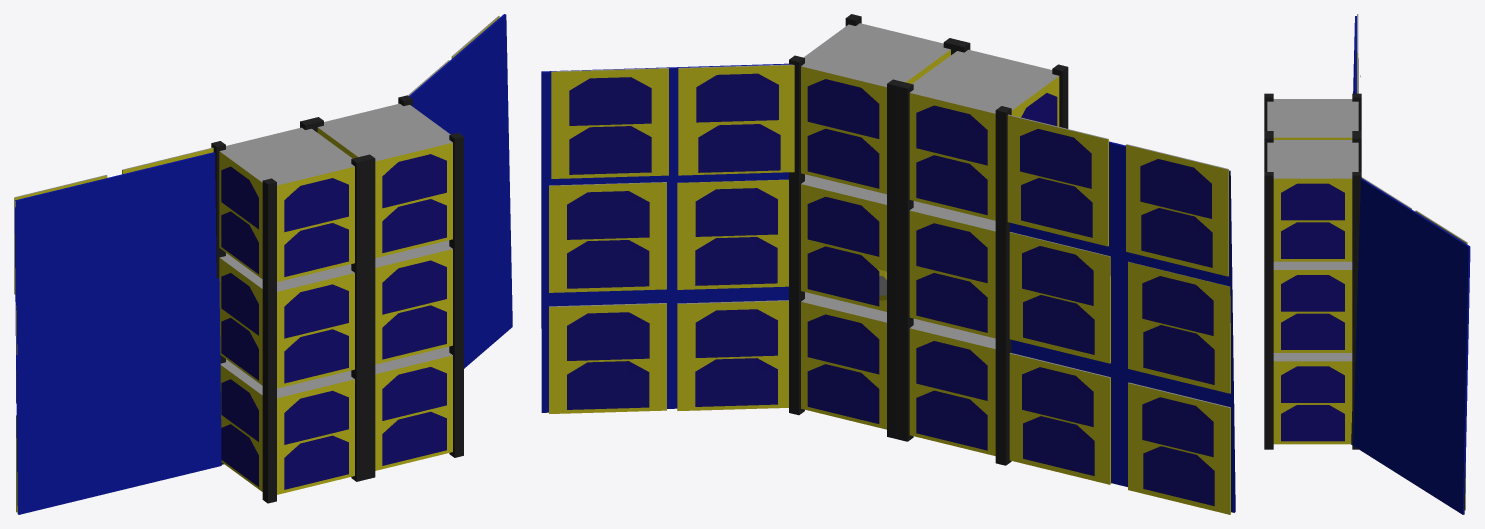
File: sateliotsat.obj
3 renders of one model, left to right at view 1: azimuth 30°, elevation 25°; view 2: azimuth 150°, elevation 25°; view 3: azimuth 270°, elevation 25°, orthographic. The views are drawn at different scales.
Parts seen in each view (by area): view 1: Cube.001_Cube.014, Cube.002_Cube.015, CubeSat.001, CubeSat.004, CubeSat, CubeSat.002, CubeSat.005, CubeSat.003, SolarPanel.004, SolarPanel.036, SolarPanel.005, SolarPanel.018 (+27 smaller); view 2: Cube.002_Cube.015, Cube.001_Cube.014, CubeSat.001, CubeSat.004, CubeSat.017, CubeSat.013, CubeSat.015, CubeSat.016, CubeSat.006, CubeSat.010, CubeSat.012, CubeSat.008 (+57 smaller); view 3: Cube.002_Cube.015, CubeSat.004, CubeSat.001, CubeSat.003, CubeSat.005, SolarPanel.032, SolarPanel.041, SolarPanel.024, SolarPanel.033, SolarPanel.040, SolarPanel.025, Leg.016 (+6 smaller).
Part boxes in pixels (bbox=[...]): Cube.001_Cube.014: bbox=[14, 152, 221, 514]; Cube.002_Cube.015: bbox=[409, 14, 512, 368]; CubeSat.001: bbox=[219, 127, 354, 281]; CubeSat.004: bbox=[317, 103, 452, 258]; CubeSat: bbox=[219, 253, 354, 388]; CubeSat.002: bbox=[220, 359, 354, 494]; CubeSat.005: bbox=[375, 346, 452, 470]; CubeSat.003: bbox=[375, 240, 452, 364]; SolarPanel.004: bbox=[284, 284, 348, 338]; SolarPanel.036: bbox=[382, 154, 446, 208]; SolarPanel.005: bbox=[284, 329, 348, 383]; SolarPanel.018: bbox=[284, 435, 348, 489]; Cube.002_Cube.015: bbox=[541, 63, 790, 412]; Cube.001_Cube.014: bbox=[1010, 141, 1235, 512]; CubeSat.001: bbox=[909, 49, 1059, 220]; CubeSat.004: bbox=[801, 23, 950, 194]; CubeSat.017: bbox=[551, 68, 668, 178]; CubeSat.013: bbox=[549, 303, 666, 413]; CubeSat.015: bbox=[549, 182, 666, 292]; CubeSat.016: bbox=[678, 64, 794, 175]; CubeSat.006: bbox=[1128, 382, 1230, 514]; CubeSat.010: bbox=[1126, 144, 1228, 276]; CubeSat.012: bbox=[677, 300, 788, 410]; CubeSat.008: bbox=[1128, 261, 1230, 393]; Cube.002_Cube.015: bbox=[1351, 178, 1470, 514]; CubeSat.004: bbox=[1267, 140, 1358, 261]; CubeSat.001: bbox=[1267, 99, 1358, 139]; CubeSat.003: bbox=[1273, 261, 1352, 352]; CubeSat.005: bbox=[1273, 353, 1352, 444]; SolarPanel.032: bbox=[1281, 183, 1344, 220]; SolarPanel.041: bbox=[1281, 405, 1344, 441]; SolarPanel.024: bbox=[1281, 275, 1344, 311]; SolarPanel.033: bbox=[1281, 222, 1344, 258]; SolarPanel.040: bbox=[1281, 366, 1344, 402]; SolarPanel.025: bbox=[1281, 313, 1344, 349]; Leg.016: bbox=[1264, 172, 1273, 266].
Bounding box in the file's own units: 1.4 × 0.7614 × 0.5191.
